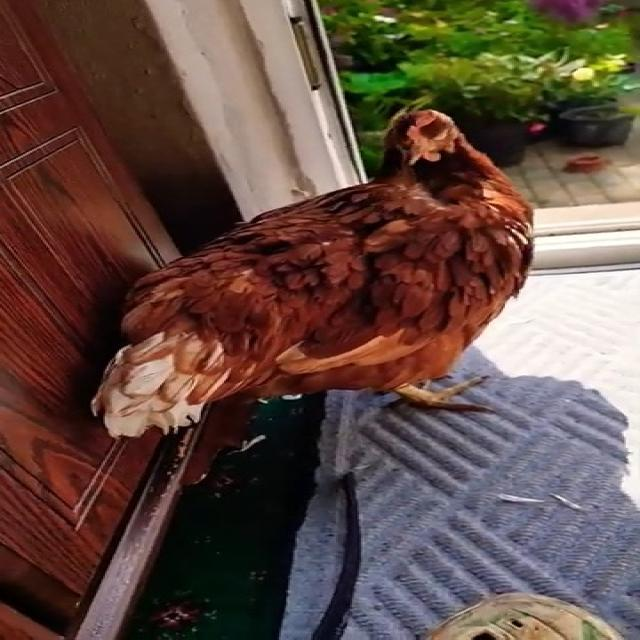self preening: (89, 92, 544, 448)
